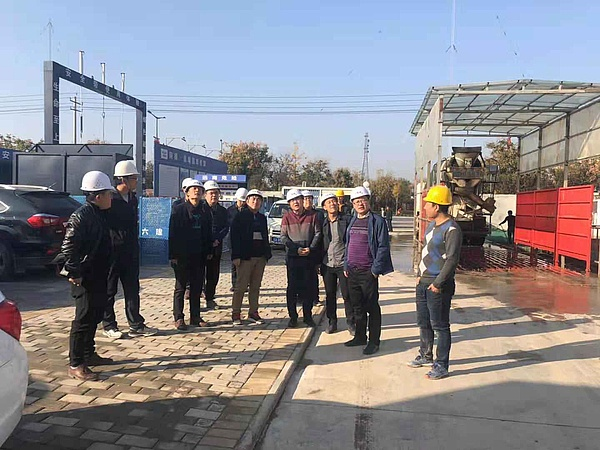white: (79, 169, 113, 210), (113, 161, 137, 191), (349, 184, 370, 215), (319, 191, 339, 216), (183, 179, 203, 203), (201, 179, 220, 204), (244, 186, 263, 211), (284, 187, 303, 212), (233, 186, 247, 207), (301, 189, 313, 209)
yellow: (419, 184, 453, 219)
